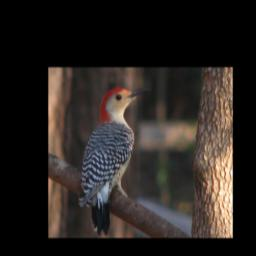Woodpecker: (78, 86, 153, 233)
